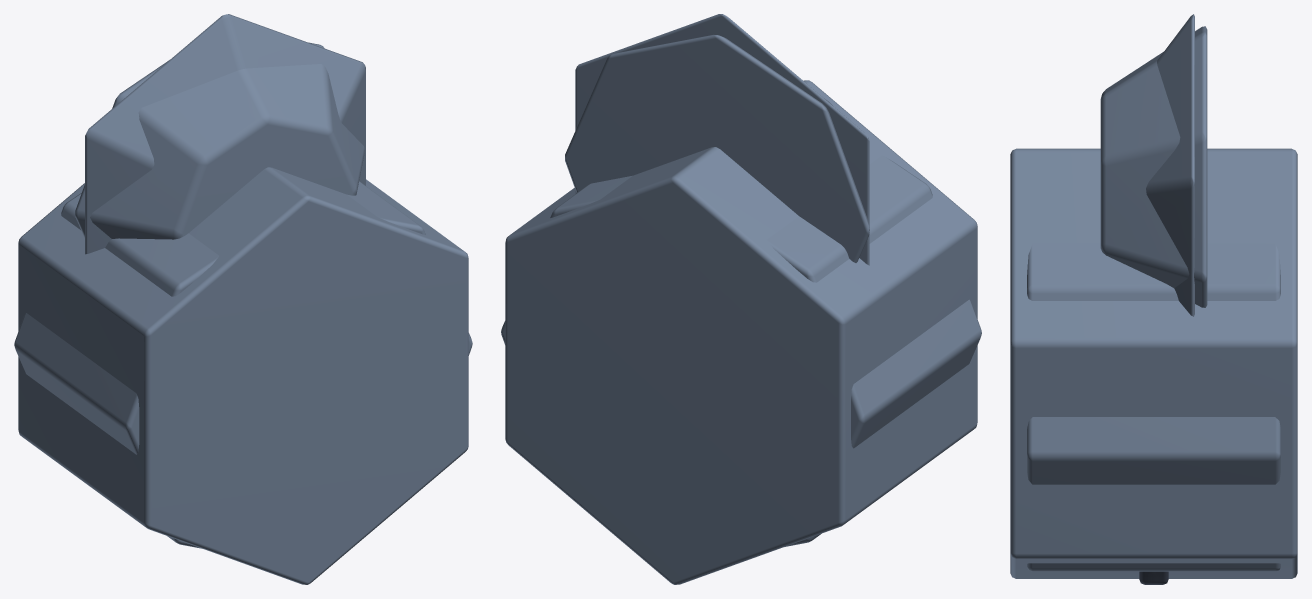
Rendered from resource_rock.glb.
3 renders of one model, left to right at view 1: azimuth 30°, elevation 25°; view 2: azimuth 150°, elevation 25°; view 3: azimuth 270°, elevation 25°, orthographic. The views are drawn at different scales.
Parts seen in each view (by area): view 1: LOD2_PROXY_base, LOD1_PROXY_cap, LOD2_PROXY_cap, LOD1_PROXY_base; view 2: LOD2_PROXY_base, LOD1_PROXY_cap, LOD1_PROXY_base, LOD2_PROXY_cap; view 3: LOD2_PROXY_base, LOD1_PROXY_base, LOD1_PROXY_cap, LOD2_PROXY_cap, resource_rubble.
Boxes of the visible parts, left/top/right/bottom form: LOD2_PROXY_base: left=18, top=167, right=468, bottom=584; LOD1_PROXY_cap: left=75, top=42, right=364, bottom=239; LOD2_PROXY_cap: left=85, top=14, right=365, bottom=254; LOD1_PROXY_base: left=14, top=181, right=472, bottom=548; LOD2_PROXY_base: left=505, top=80, right=977, bottom=584; LOD1_PROXY_cap: left=565, top=34, right=869, bottom=262; LOD1_PROXY_base: left=501, top=155, right=981, bottom=546; LOD2_PROXY_cap: left=575, top=14, right=869, bottom=265; LOD2_PROXY_base: left=1010, top=148, right=1297, bottom=578; LOD1_PROXY_base: left=1027, top=243, right=1280, bottom=571; LOD1_PROXY_cap: left=1100, top=26, right=1207, bottom=307; LOD2_PROXY_cap: left=1146, top=14, right=1194, bottom=316; resource_rubble: left=1139, top=571, right=1168, bottom=584.
Size of the model in its own units: 2.69 by 3.8 by 1.75.
Materials: 6 (5 with a texture image).
